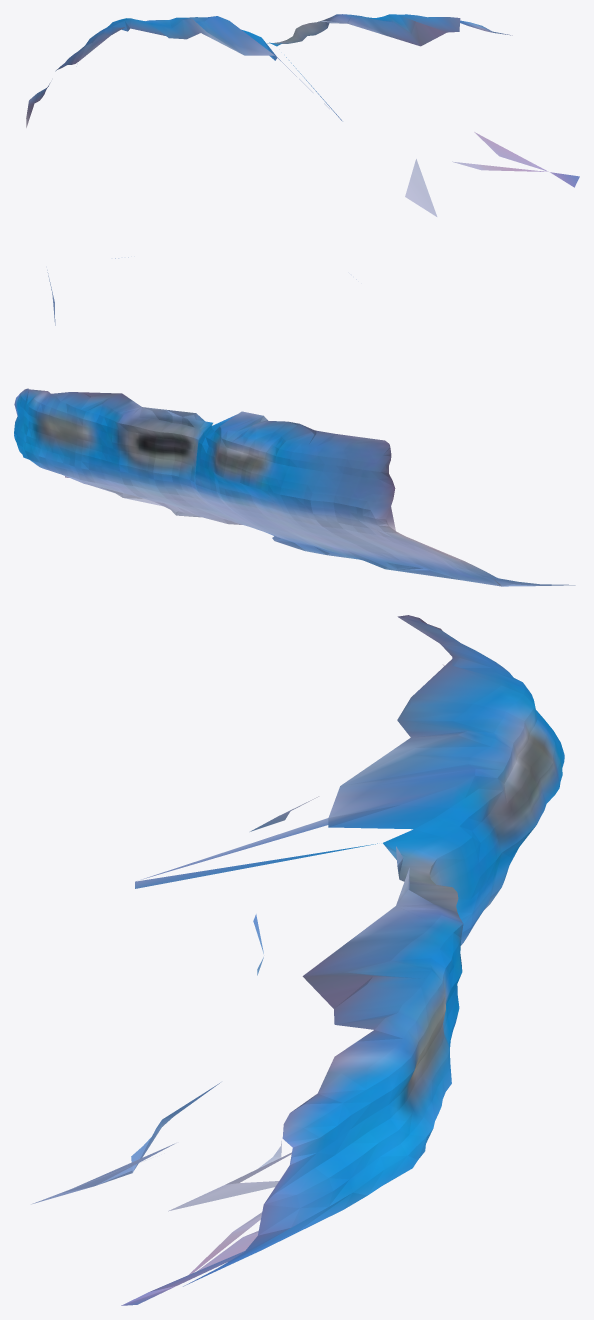
File: observed-surface.glb
3 renders of one model, top to bottom at view 1: azimuth 30°, elevation 25°; view 2: azimuth 150°, elevation 25°; view 3: azimuth 270°, elevation 25°, orthographic. The views are drawn at different scales.
Parts seen in each view (by area): view 1: geometry_0; view 2: geometry_0; view 3: geometry_0.
Boxes of the visible parts, x1,y1,x2,y2 form: geometry_0: [26, 14, 579, 325]; geometry_0: [14, 388, 575, 586]; geometry_0: [31, 615, 564, 1305].
Bounding box in the file's own units: 0.7237 × 0.2856 × 0.3304.
Materials: 1 (1 with a texture image).
